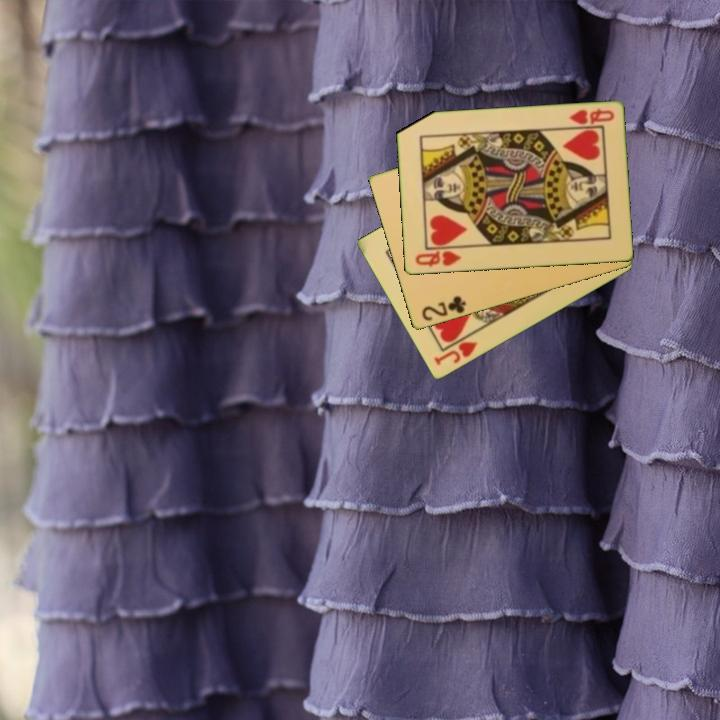2c: (418, 292, 469, 324)
Jh: (430, 338, 480, 368)
Qh: (412, 247, 464, 270), (565, 105, 617, 128)
